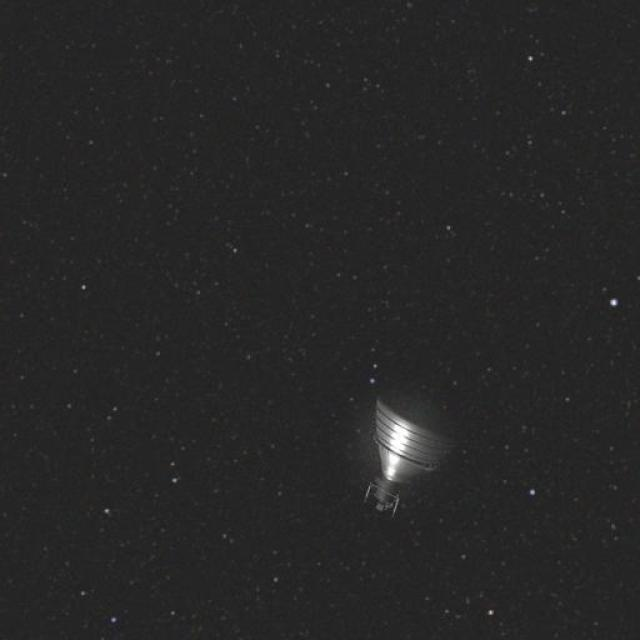debris: (338, 371, 464, 523)
